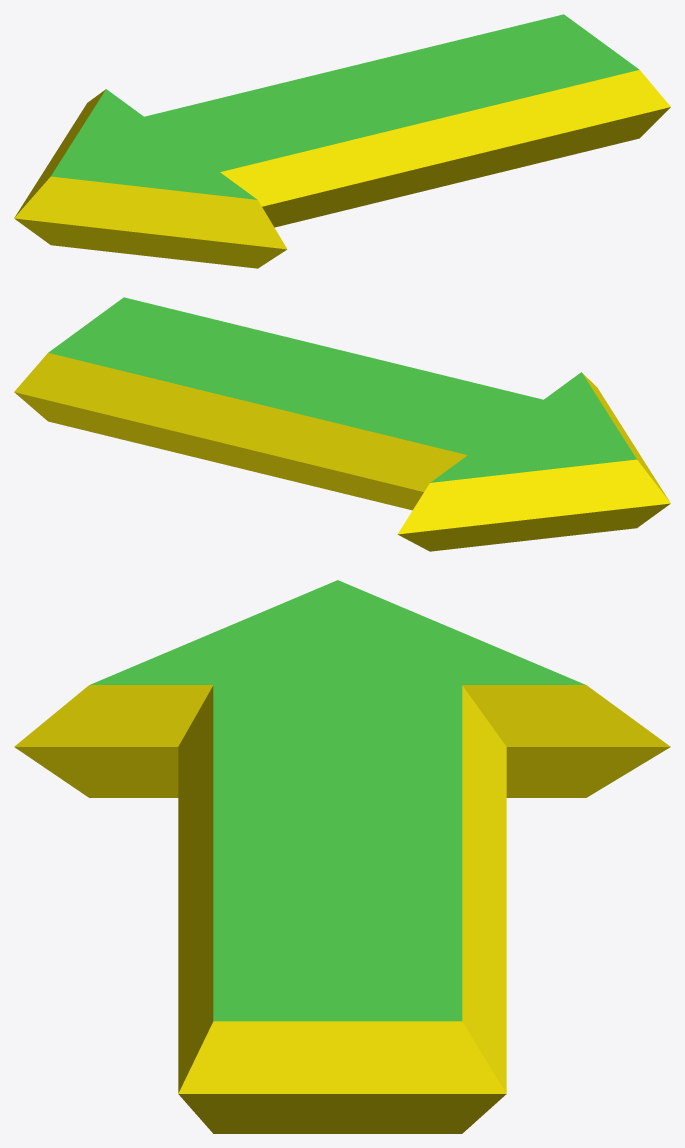
File: Pfeil1.fbx
3 views of the same model, one above another, from view 1: azimuth 30°, elevation 25°; view 2: azimuth 150°, elevation 25°; view 3: azimuth 270°, elevation 25° (orthographic). The views are drawn at different scales.
Parts seen in each view (by area): view 1: Plane; view 2: Plane; view 3: Plane.
Part boxes in pixels (bbox=[...]): Plane: bbox=[14, 14, 670, 268]; Plane: bbox=[14, 297, 670, 551]; Plane: bbox=[14, 580, 670, 1133].
Bounding box in the file's own units: 7 × 0.7572 × 4.
